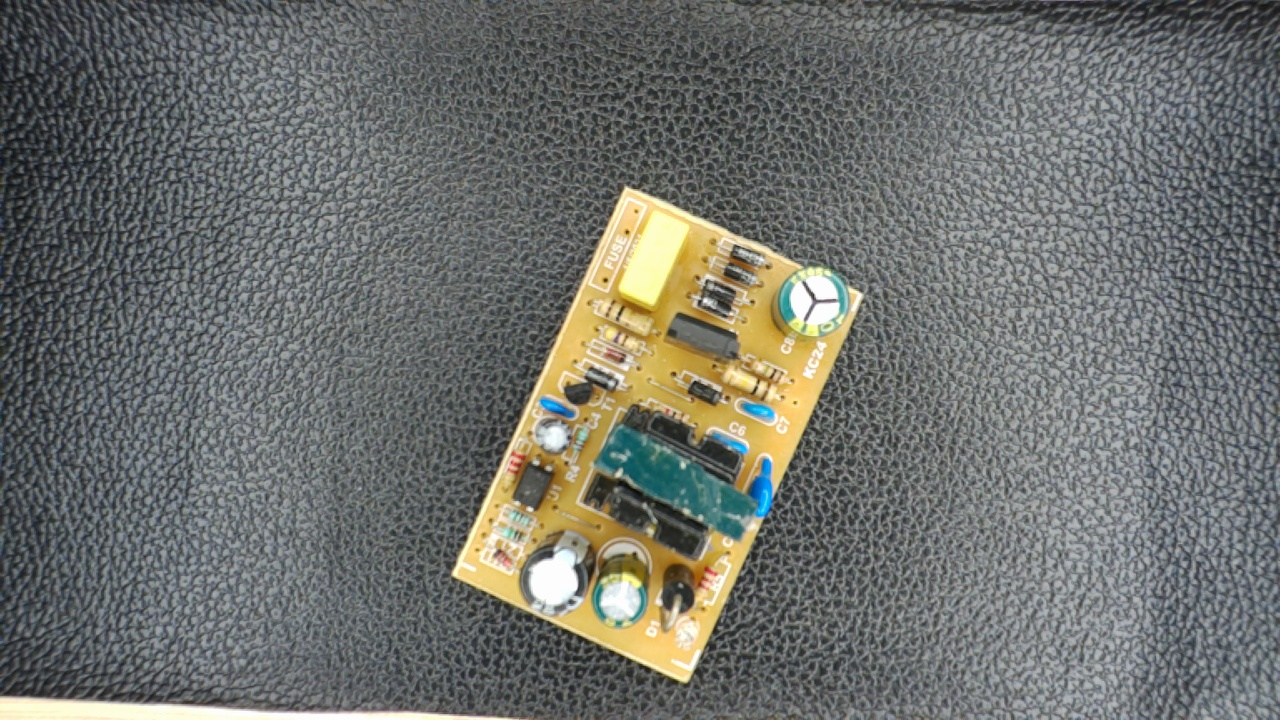hv_capacitor: (771, 269, 849, 341)
mov: (744, 450, 777, 518)
optocoupler: (510, 458, 558, 513)
